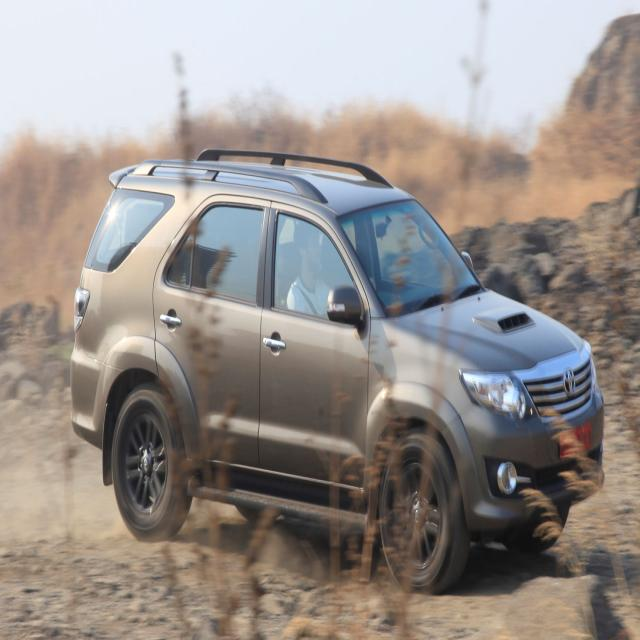light_vehicle: (68, 153, 606, 596)
